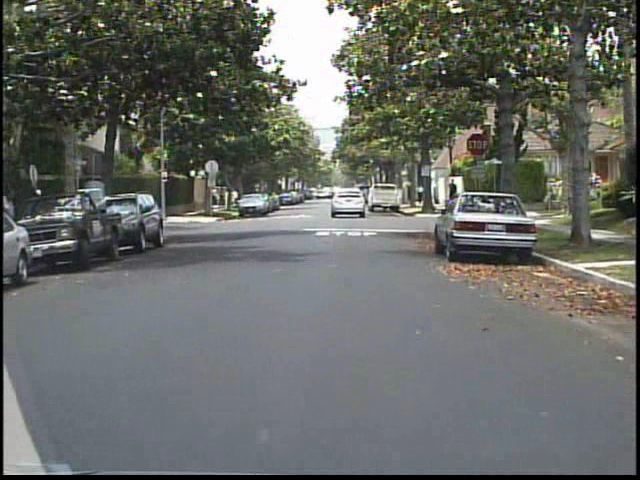person: (2, 183, 27, 276), (444, 176, 462, 213), (416, 179, 427, 205)
